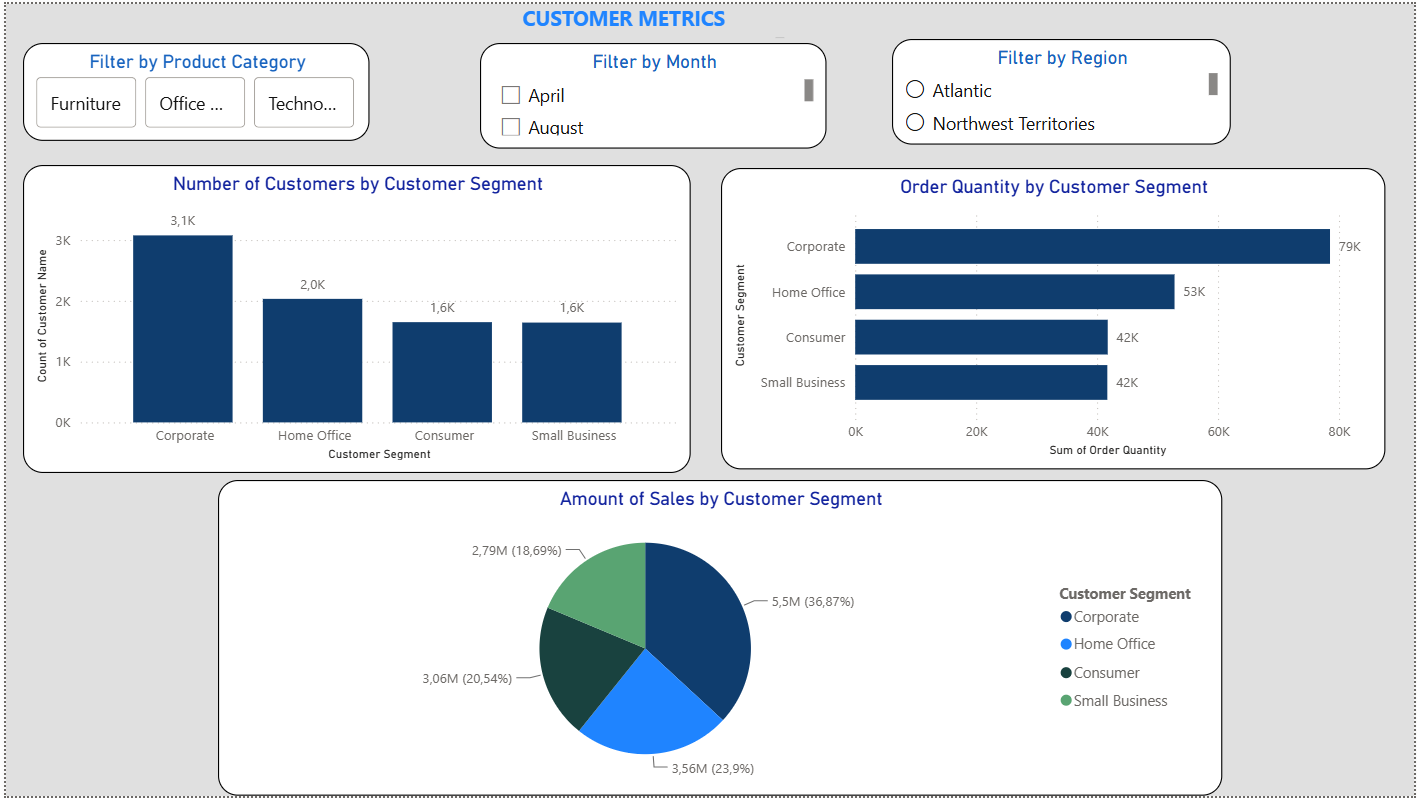

This screenshot's page, from the dashboard's own definition file:
{"tool":"powerbi","page":{"name":"Page 3","canvas":[1280,720],"ordinal":2},"visuals":[{"type":"columnChart","title":"Number of Customers by Customer Segment","fields":{"Y":["CountNonNull(superstore_cleaned.Customer Name)"],"Category":["superstore_cleaned.Customer Segment"]},"box":[15.5,146.4,607.3,280],"z":0},{"type":"pieChart","title":"Amount of Sales by Customer Segment","fields":{"Category":["superstore_cleaned.Customer Segment"],"Y":["Sum(superstore_cleaned.Sales)"]},"box":[192.7,432.7,912.7,287.3],"z":1000},{"type":"clusteredBarChart","title":"Order Quantity by Customer Segment","fields":{"Category":["superstore_cleaned.Customer Segment"],"Y":["Sum(superstore_cleaned.Order Quantity)"]},"box":[650,149.1,603.6,273.6],"z":2000},{"type":"advancedSlicerVisual","title":"Filter by Product Category","fields":{"Values":["superstore_cleaned.Product Category"]},"box":[15.5,35.5,315.5,89.1],"z":2001},{"type":"slicer","title":"Filter by Month","fields":{"Values":["superstore_cleaned.Month"]},"box":[430.9,35.5,315.5,96.4],"z":2002},{"type":"listSlicer","title":"Filter by Region","fields":{"Values":["superstore_cleaned.Region"]},"box":[805.5,31.8,308.2,96.4],"z":2003},{"type":"textbox","title":"CUSTOMER METRICS","box":[464.5,0,248.2,35.5],"z":2004}]}

Visuals, with their boxes in screenshot pixels (x1, y1, x2, y2), scaled from the page's 1280x720 canvas onto the 1417x798 screenshot:
"Number of Customers by Customer Segment" columnChart: Rect(17, 162, 689, 473)
"Amount of Sales by Customer Segment" pieChart: Rect(213, 480, 1224, 797)
"Order Quantity by Customer Segment" clusteredBarChart: Rect(720, 165, 1388, 468)
"Filter by Product Category" advancedSlicerVisual: Rect(17, 39, 366, 138)
"Filter by Month" slicer: Rect(477, 39, 826, 146)
"Filter by Region" listSlicer: Rect(892, 35, 1233, 142)
"CUSTOMER METRICS" textbox: Rect(514, 0, 789, 39)
